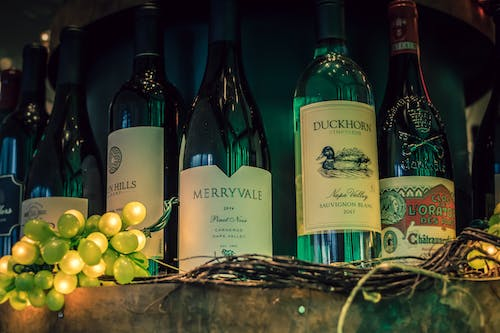alcohol: (177, 0, 273, 276), (291, 0, 383, 267), (375, 0, 459, 265), (106, 0, 184, 276), (18, 22, 106, 242), (0, 41, 51, 259), (471, 13, 500, 227)
